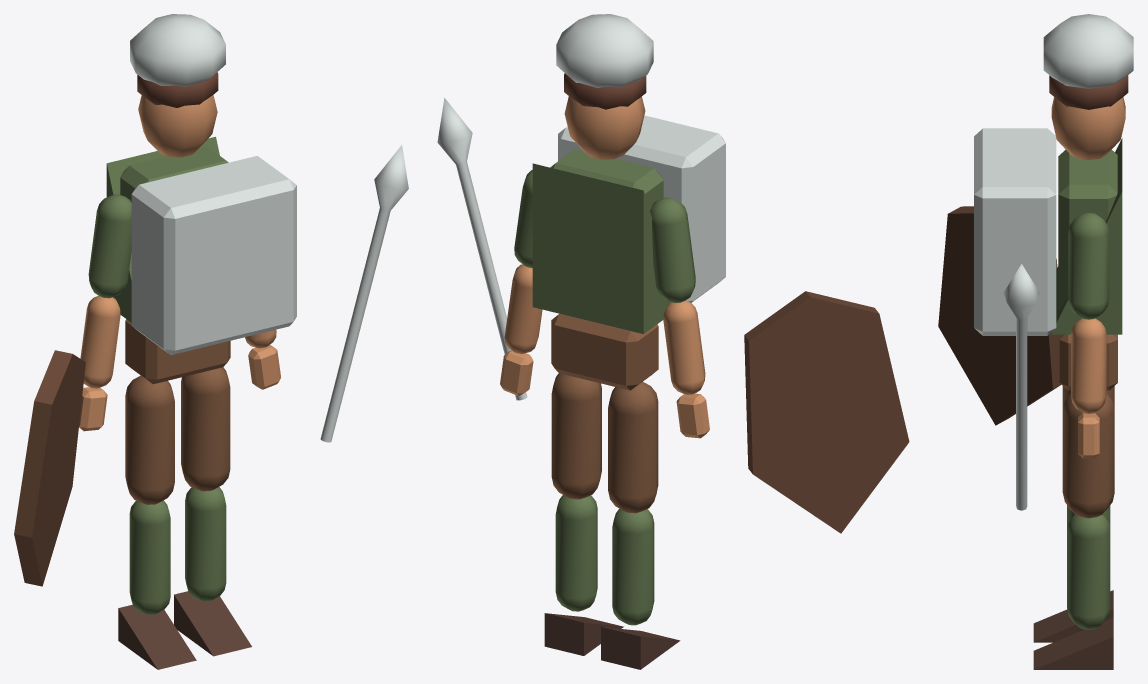
Rendered from adventurer.rustic.glb.
3 renders of one model, left to right at view 1: azimuth 30°, elevation 25°; view 2: azimuth 150°, elevation 25°; view 3: azimuth 270°, elevation 25°, orthographic.
Parts seen in each view (by area): view 1: accessory.body, accessory.off-hand, thigh.left, thigh.right, accessory.head, shin.left, shin.right, accessory.main-hand, upper-arm.left, head, pelvis, foot.left (+7 smaller); view 2: accessory.off-hand, tunic, accessory.body, pelvis, thigh.left, thigh.right, accessory.head, shin.right, shin.left, upper-arm.left, accessory.main-hand, head (+9 smaller); view 3: accessory.body, accessory.off-hand, accessory.head, thigh.right, shin.right, torso, upper-arm.right, accessory.main-hand, head, forearm.right, tunic, foot.right (+4 smaller).
Boxes of the visible parts, left/top/right/bottom form: accessory.body: left=131, top=155, right=296, bottom=355; accessory.off-hand: left=14, top=350, right=85, bottom=586; thigh.left: left=125, top=375, right=174, bottom=504; thigh.right: left=181, top=367, right=230, bottom=491; accessory.head: left=130, top=14, right=225, bottom=86; shin.left: left=129, top=500, right=170, bottom=615; shin.right: left=185, top=487, right=226, bottom=601; accessory.main-hand: left=320, top=145, right=408, bottom=442; upper-arm.left: left=88, top=194, right=131, bottom=298; head: left=138, top=95, right=217, bottom=157; pelvis: left=125, top=319, right=230, bottom=384; foot.left: left=118, top=604, right=196, bottom=669; accessory.off-hand: left=744, top=291, right=909, bottom=533; tunic: left=532, top=163, right=670, bottom=334; accessory.body: left=558, top=115, right=725, bottom=302; pelvis: left=551, top=313, right=658, bottom=390; thigh.left: left=608, top=382, right=658, bottom=513; thigh.right: left=551, top=373, right=601, bottom=499; accessory.head: left=556, top=14, right=653, bottom=87; shin.right: left=555, top=495, right=597, bottom=611; shin.left: left=612, top=508, right=654, bottom=625; upper-arm.left: left=650, top=197, right=695, bottom=302; accessory.main-hand: left=437, top=97, right=527, bottom=400; head: left=564, top=96, right=645, bottom=159; accessory.body: left=974, top=128, right=1056, bottom=335; accessory.off-hand: left=938, top=206, right=1061, bottom=425; accessory.head: left=1043, top=14, right=1133, bottom=88; thigh.right: left=1062, top=393, right=1114, bottom=518; shin.right: left=1067, top=514, right=1110, bottom=629; torso: left=1058, top=149, right=1117, bottom=308; upper-arm.right: left=1068, top=212, right=1109, bottom=319; accessory.main-hand: left=1003, top=264, right=1039, bottom=510; head: left=1051, top=97, right=1125, bottom=160; forearm.right: left=1071, top=318, right=1106, bottom=413; tunic: left=1051, top=138, right=1122, bottom=334; foot.right: left=1033, top=617, right=1113, bottom=669.
Bounding box in the file's own units: 2.31 × 3.2 × 0.9041.
